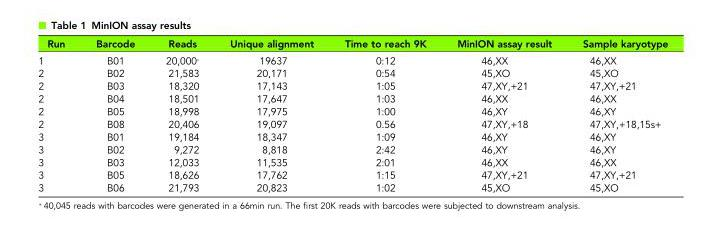table: (37, 36, 667, 193)
table column: (441, 36, 566, 193), (213, 36, 328, 193), (328, 36, 441, 193), (566, 36, 667, 193), (79, 36, 149, 193), (149, 36, 213, 193), (37, 36, 79, 193)
table column header: (37, 36, 667, 51)
table row: (37, 36, 667, 51), (37, 51, 667, 66), (37, 66, 667, 79), (37, 91, 667, 104), (37, 104, 667, 117), (37, 117, 667, 130), (37, 142, 667, 155), (37, 155, 667, 168), (37, 168, 667, 181), (37, 79, 667, 91), (37, 130, 667, 142), (37, 181, 667, 193)
